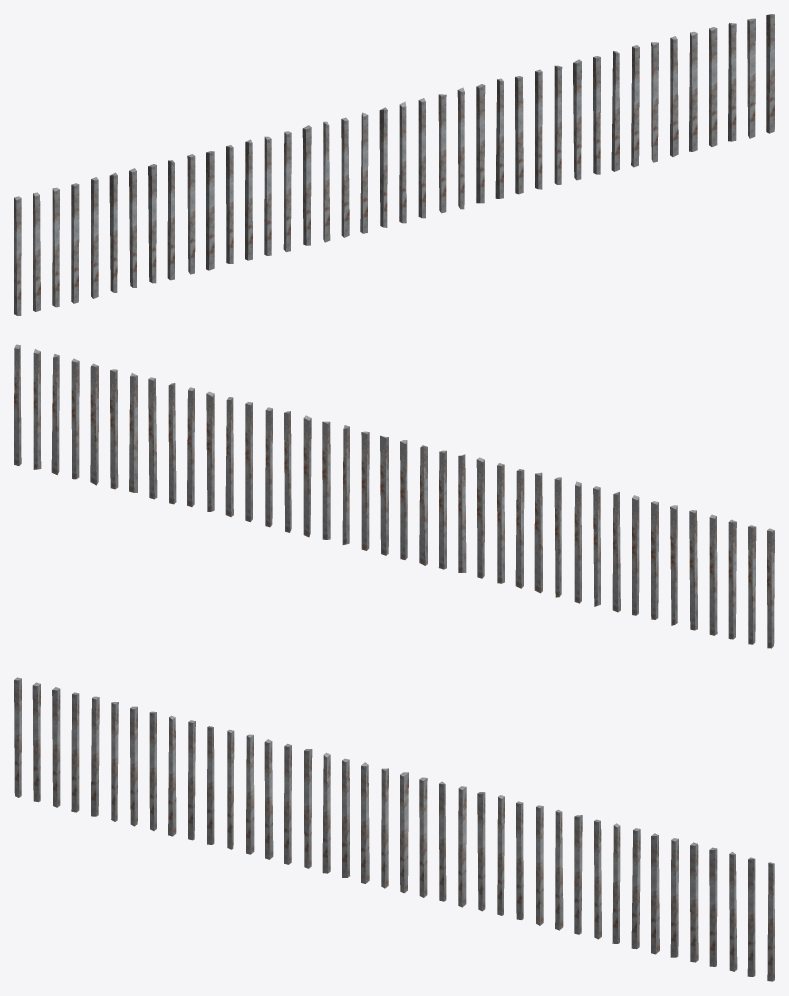
Rendered from bars1.gltf.
The picture shows the model from 3 angles, top to bottom: view 1: azimuth 30°, elevation 25°; view 2: azimuth 150°, elevation 25°; view 3: azimuth 330°, elevation 25°; orthographic projection.
Parts seen in each view (by area): view 1: Cube; view 2: Cube; view 3: Cube.
Part boxes in pixels (x1,y1,x2,y2): Cube: (14,14,774,315); Cube: (14,344,774,648); Cube: (14,677,774,981).
Size of the model in its own units: 53.55 by 8.07 by 0.3409.
Materials: 1 (1 with a texture image).
